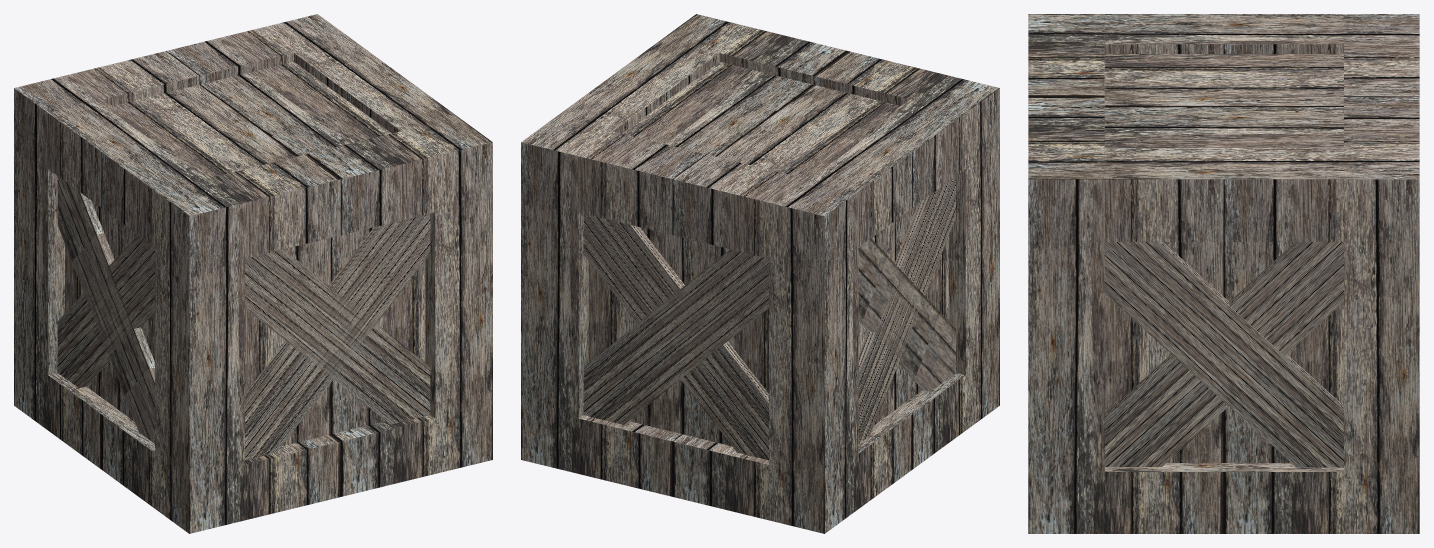
Rendered from CajaProyecto.fbx.
3 renders of one model, left to right at view 1: azimuth 30°, elevation 25°; view 2: azimuth 150°, elevation 25°; view 3: azimuth 270°, elevation 25°, orthographic. The views are drawn at different scales.
Parts seen in each view (by area): view 1: Box020, Box024, Box025, Box023, Box028; view 2: Box020, Box026, Box027, Box028, Box023; view 3: Box020, Box029, Box022.
Part boxes in pixels (x1,y1,x2,y2): Box020: (14, 14, 492, 533); Box024: (245, 249, 430, 424); Box025: (245, 213, 430, 460); Box023: (57, 176, 154, 443); Box028: (57, 235, 154, 388); Box020: (521, 14, 999, 533); Box026: (583, 249, 768, 424); Box027: (583, 213, 768, 460); Box028: (858, 176, 955, 443); Box023: (858, 238, 955, 391); Box020: (1028, 14, 1419, 533); Box029: (1104, 242, 1343, 467); Box022: (1104, 242, 1343, 466).
Size of the model in its own units: 40 by 40 by 40.
